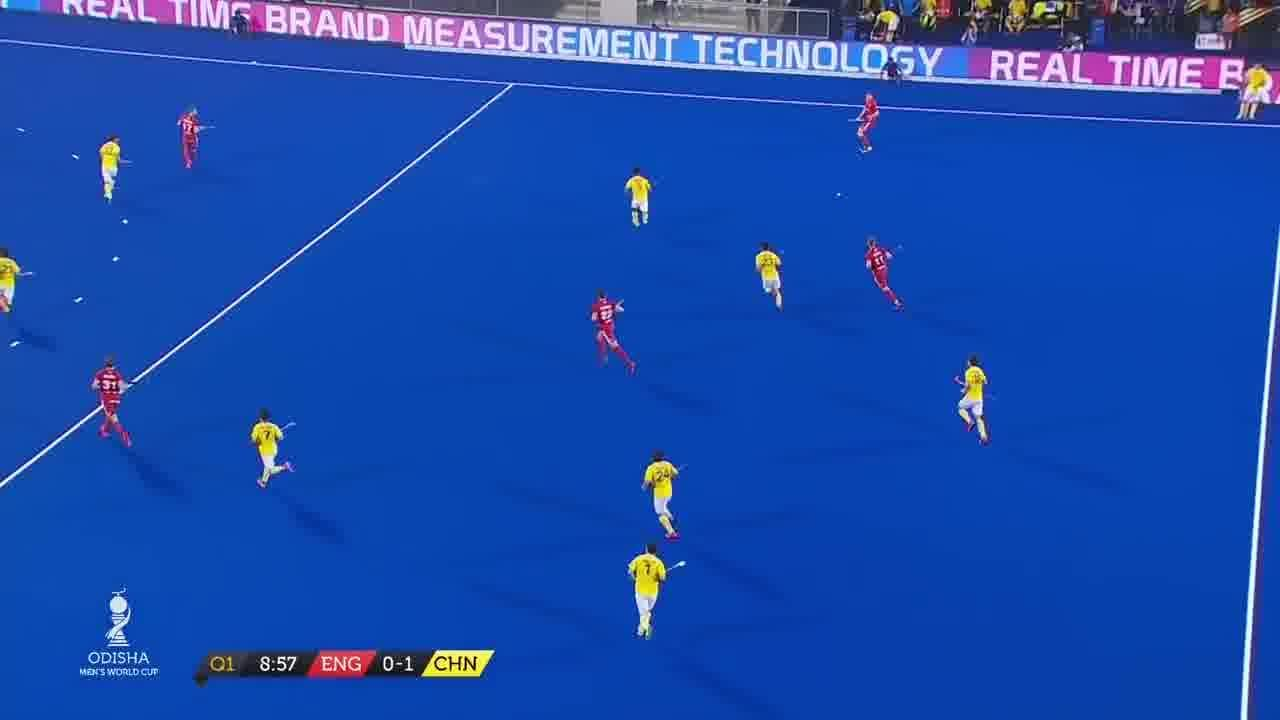ball: (830, 185, 846, 202)
